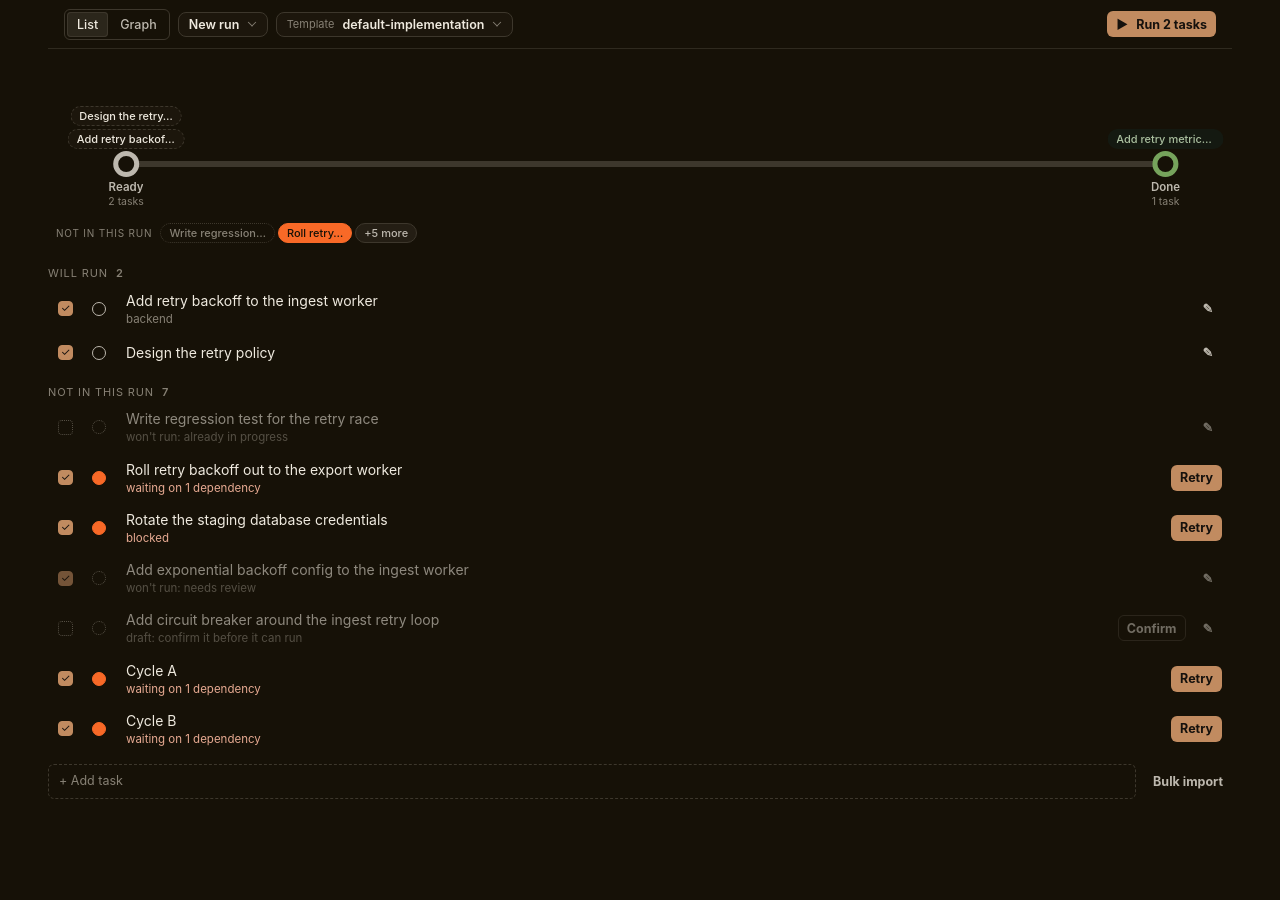
Test case: TasksTab › Plan (no runs yet) › toggles to the graph view and back
Expected: the button "Add retry backoff to the ingest worker" is shown, [126, 290, 1170, 310]
Click the radio button labelled "Graph": point(138, 24) [110, 12, 167, 36]
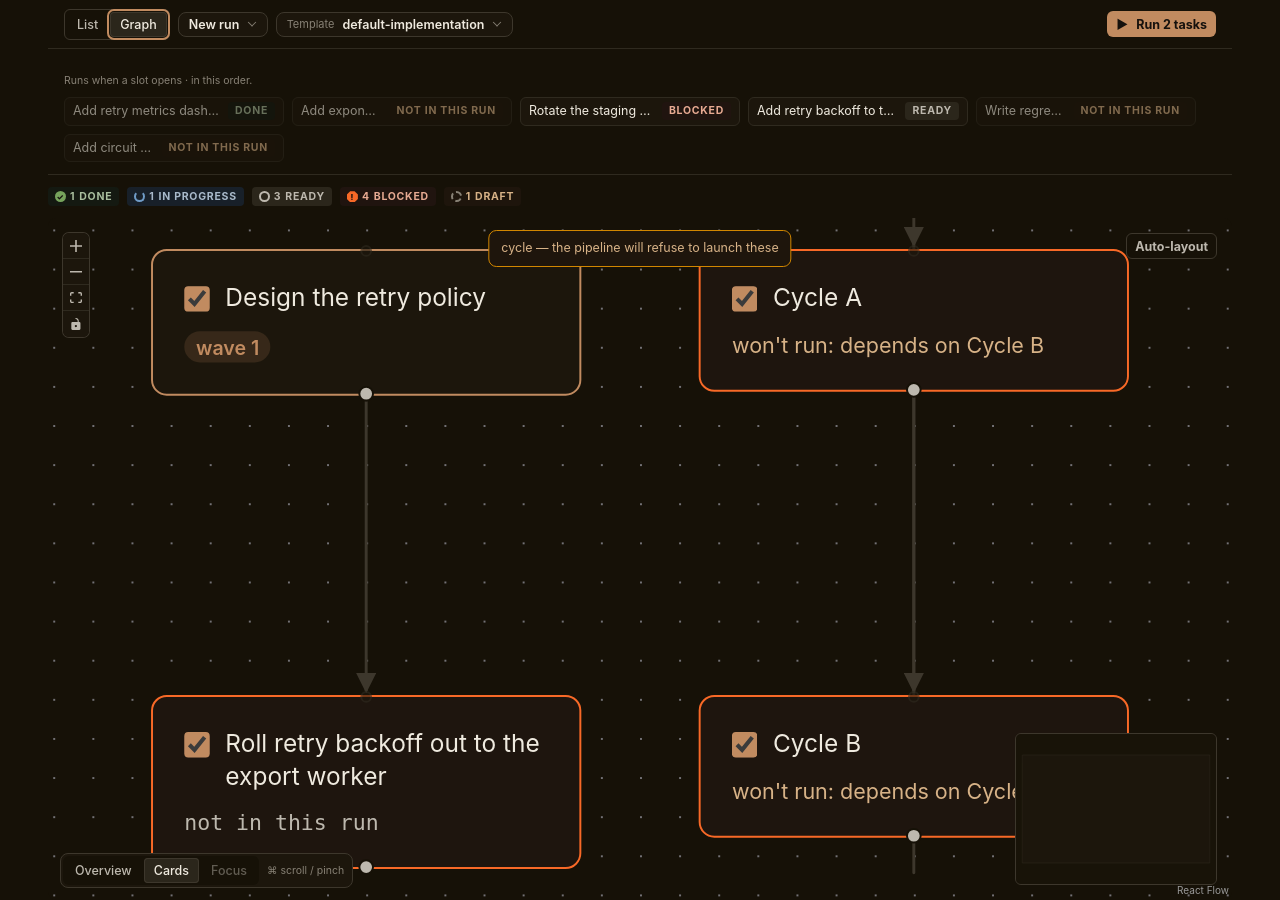
Now the element with test id "rf__wrapper" is shown
Click the radio button labelled "List": point(88, 24) [67, 12, 108, 36]
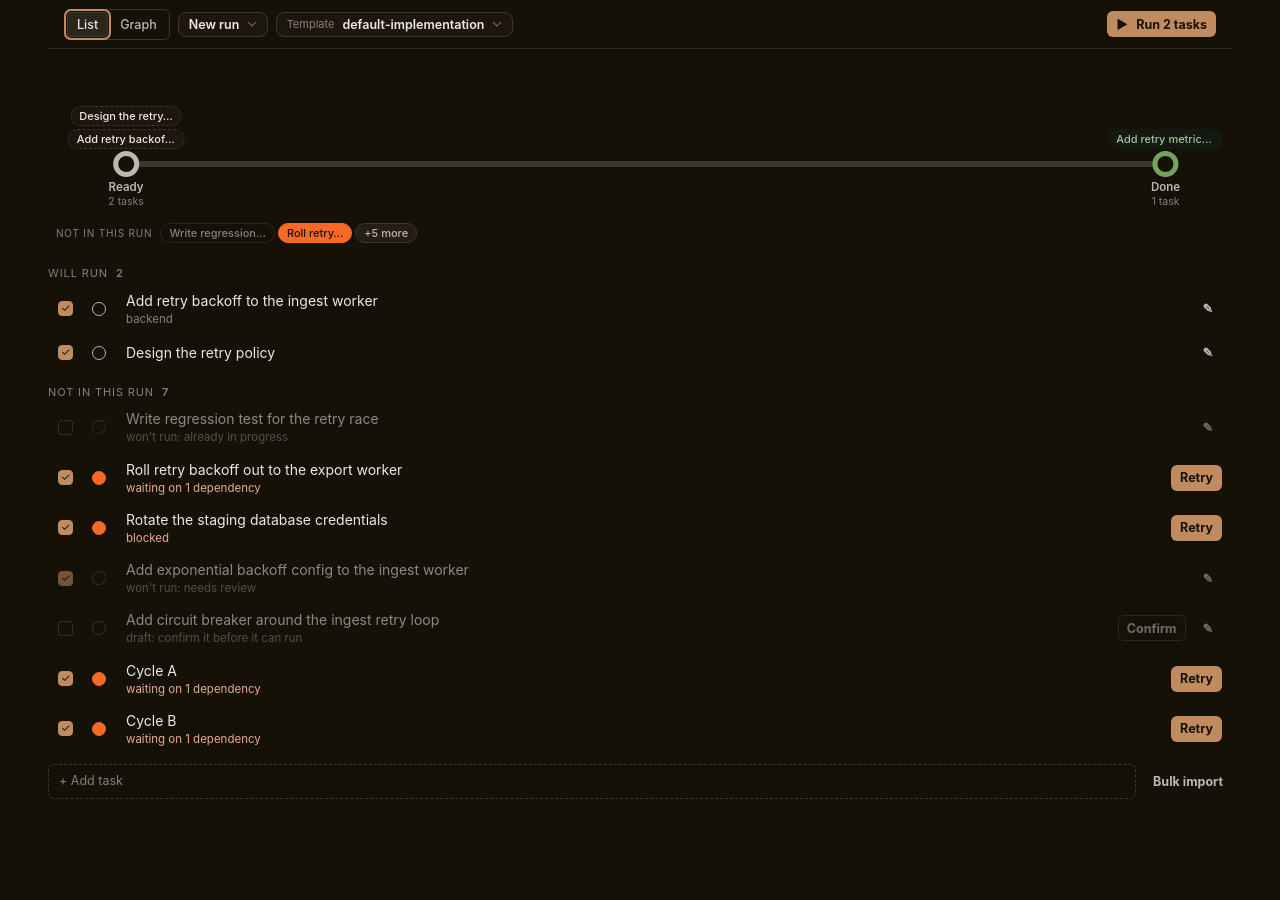
Now the element with test id "rf__wrapper" is gone
